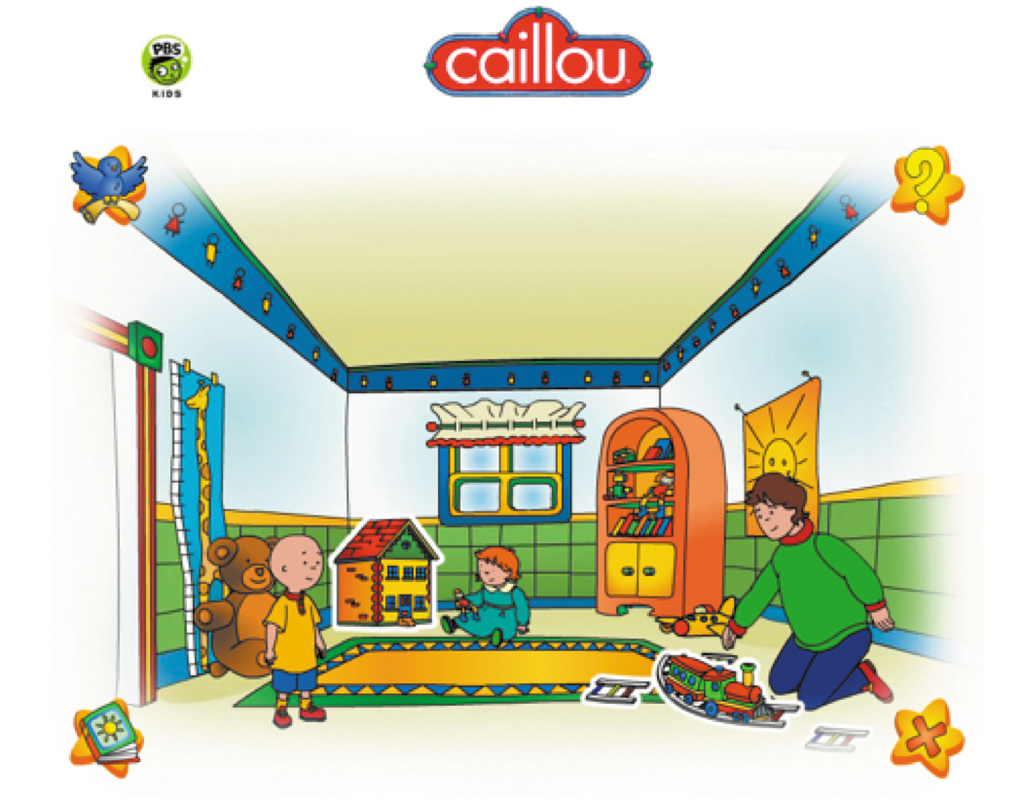Person: (720, 472, 895, 710)
